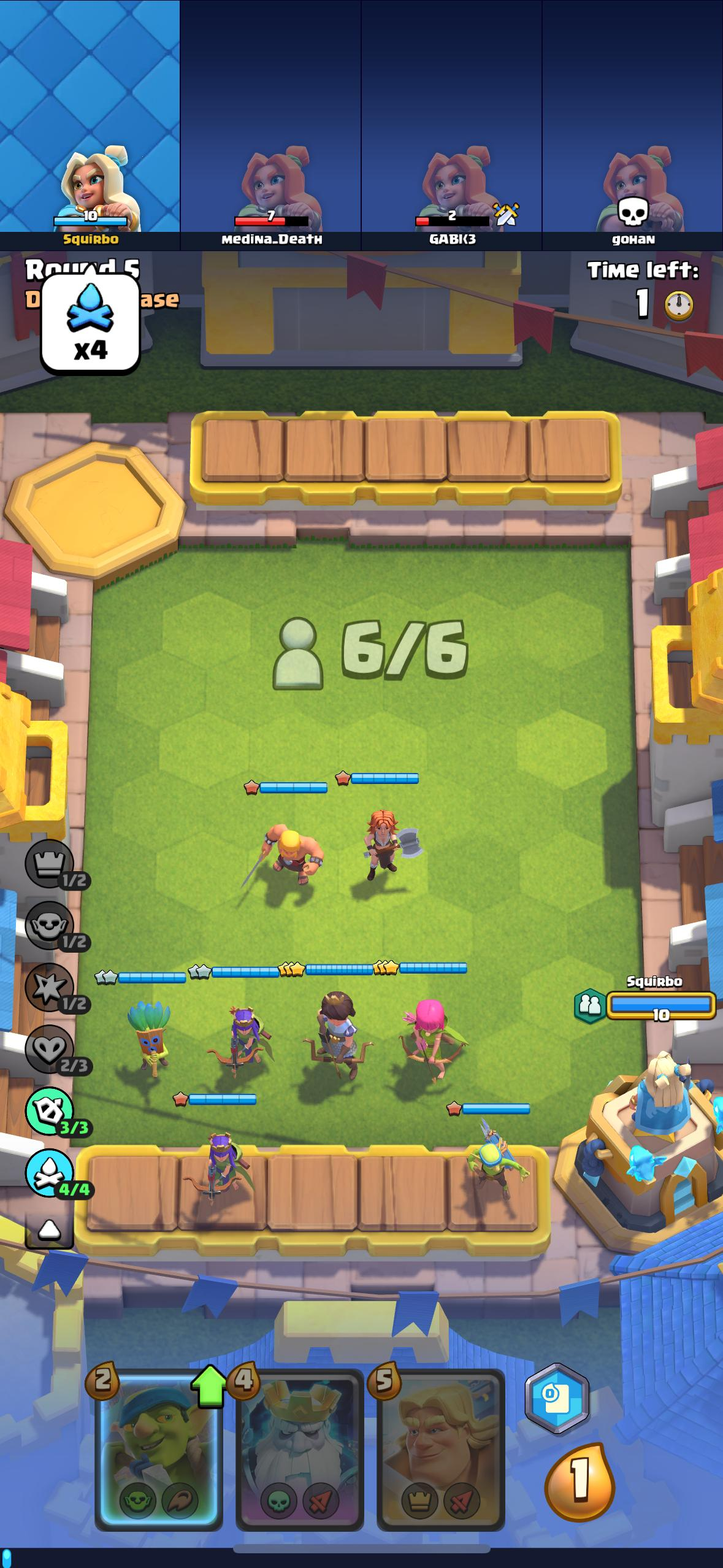archer: (392, 988, 466, 1086)
barbarian: (258, 813, 326, 890)
dart: (123, 999, 178, 1081)
hand-ghost: (239, 1367, 363, 1525)
hand-golden: (375, 1371, 504, 1527)
hand-spear: (96, 1373, 221, 1524)
princess: (300, 978, 373, 1085)
queen: (191, 1119, 257, 1209), (214, 1002, 276, 1073)
spear: (456, 1114, 532, 1198)
upgrade: (194, 1366, 228, 1411)
valkyrie: (356, 802, 415, 882)
